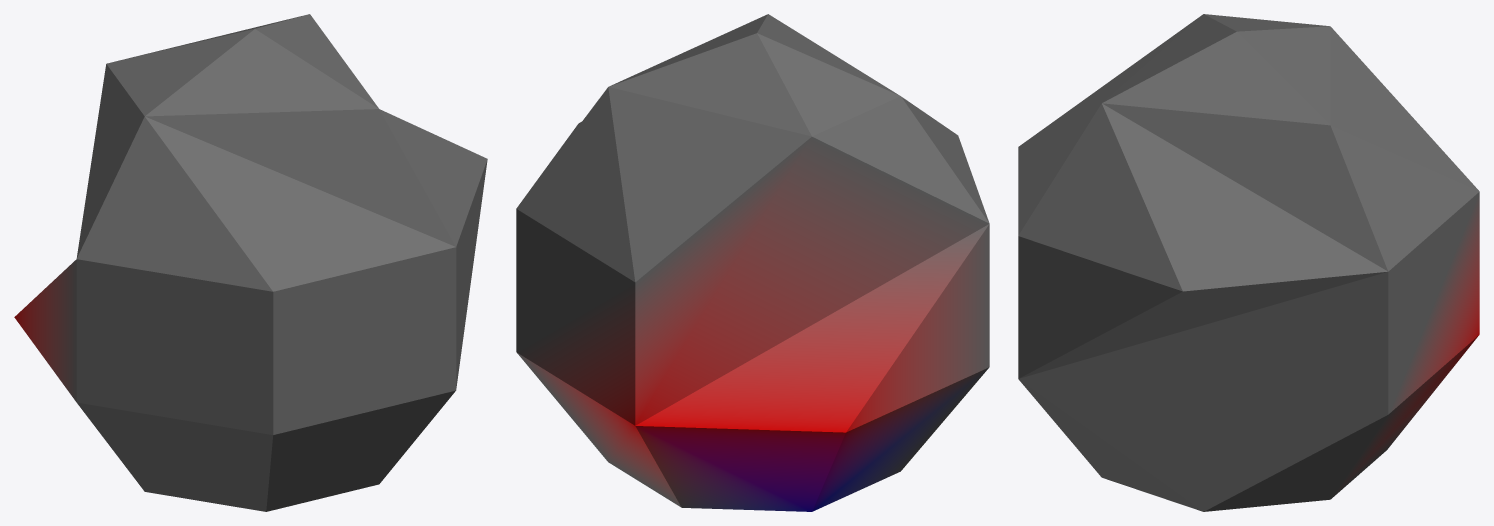
File: before_retriangulation_5.obj
The picture shows the model from 3 angles, left to right: view 1: azimuth 30°, elevation 25°; view 2: azimuth 150°, elevation 25°; view 3: azimuth 270°, elevation 25°; orthographic projection.
Size of the model in its own units: 1.85 by 2 by 1.81.
